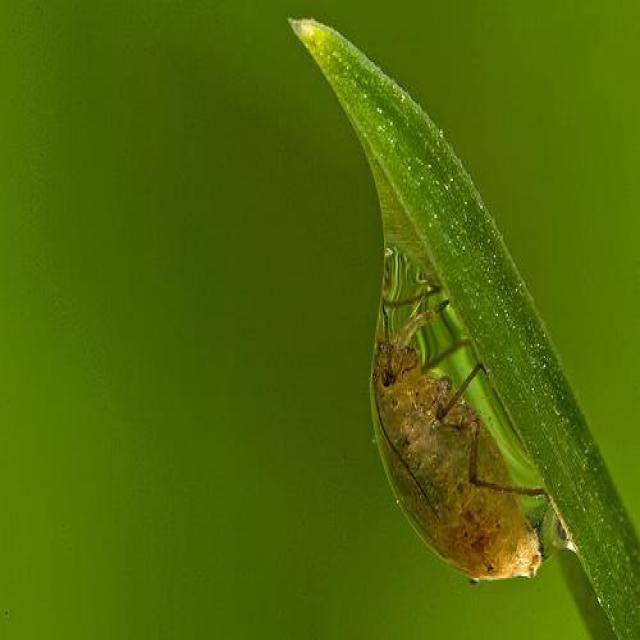aphid: (344, 245, 570, 592)
